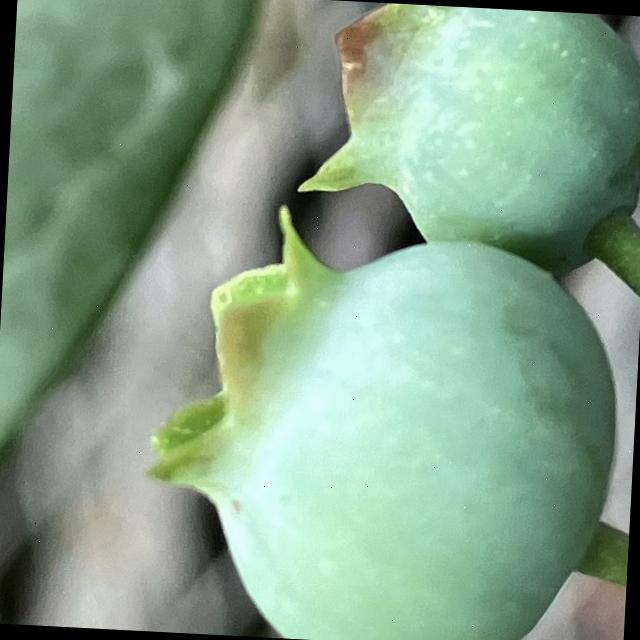Blueberries: (133, 195, 628, 640), (288, 0, 640, 274)
